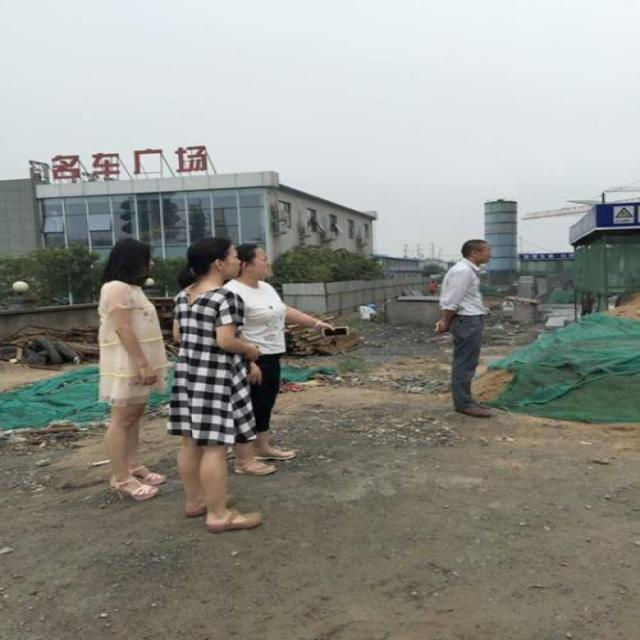no-helmet: (184, 232, 241, 289), (104, 236, 155, 297), (229, 235, 280, 284), (461, 235, 502, 268)
